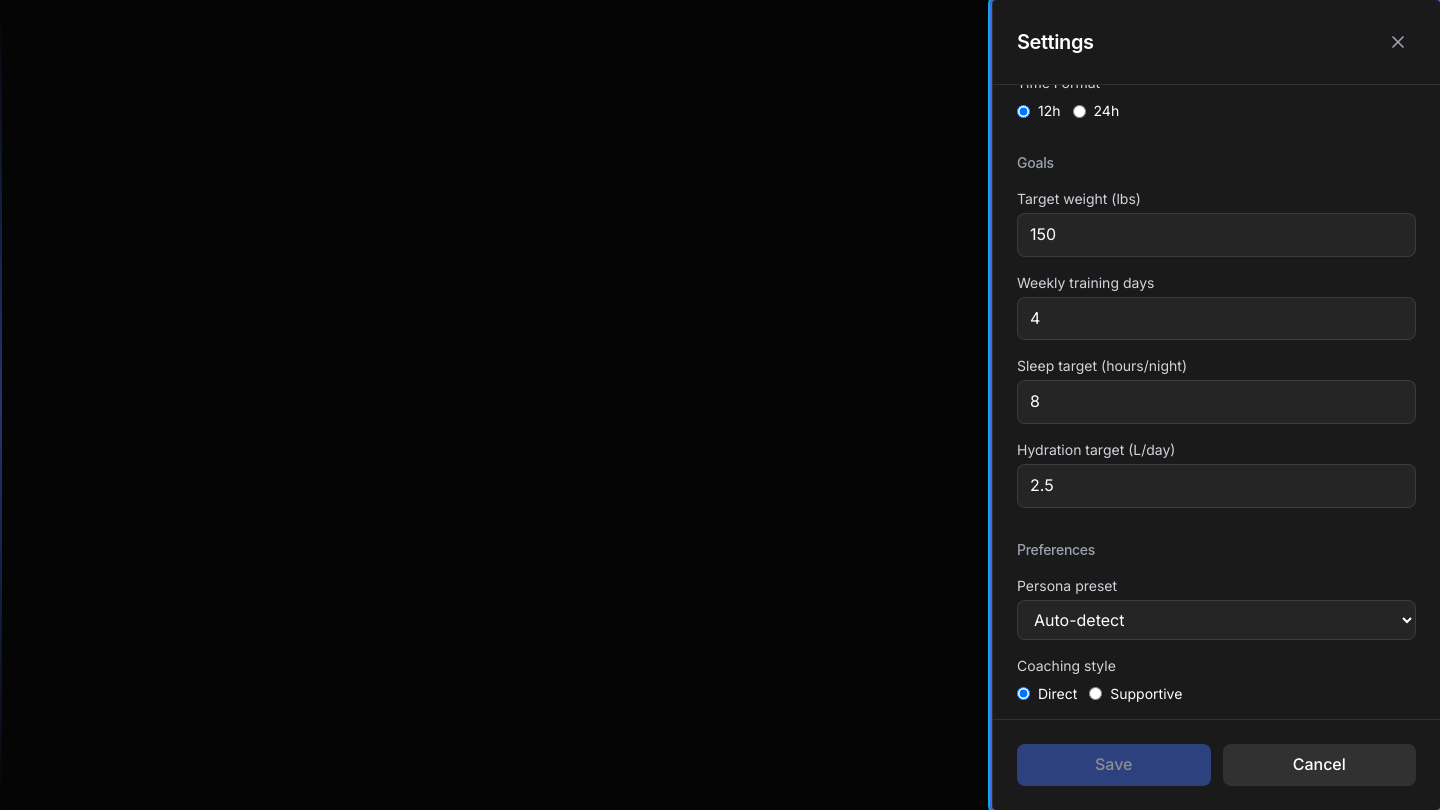
Test: SettingsSlideOver › Validation › Should validate numeric ranges
(page scrolled)
Replace the text in the number field labelled "Sleep target (hours/night)" with "25": (1216, 402) [1017,380,1416,424]
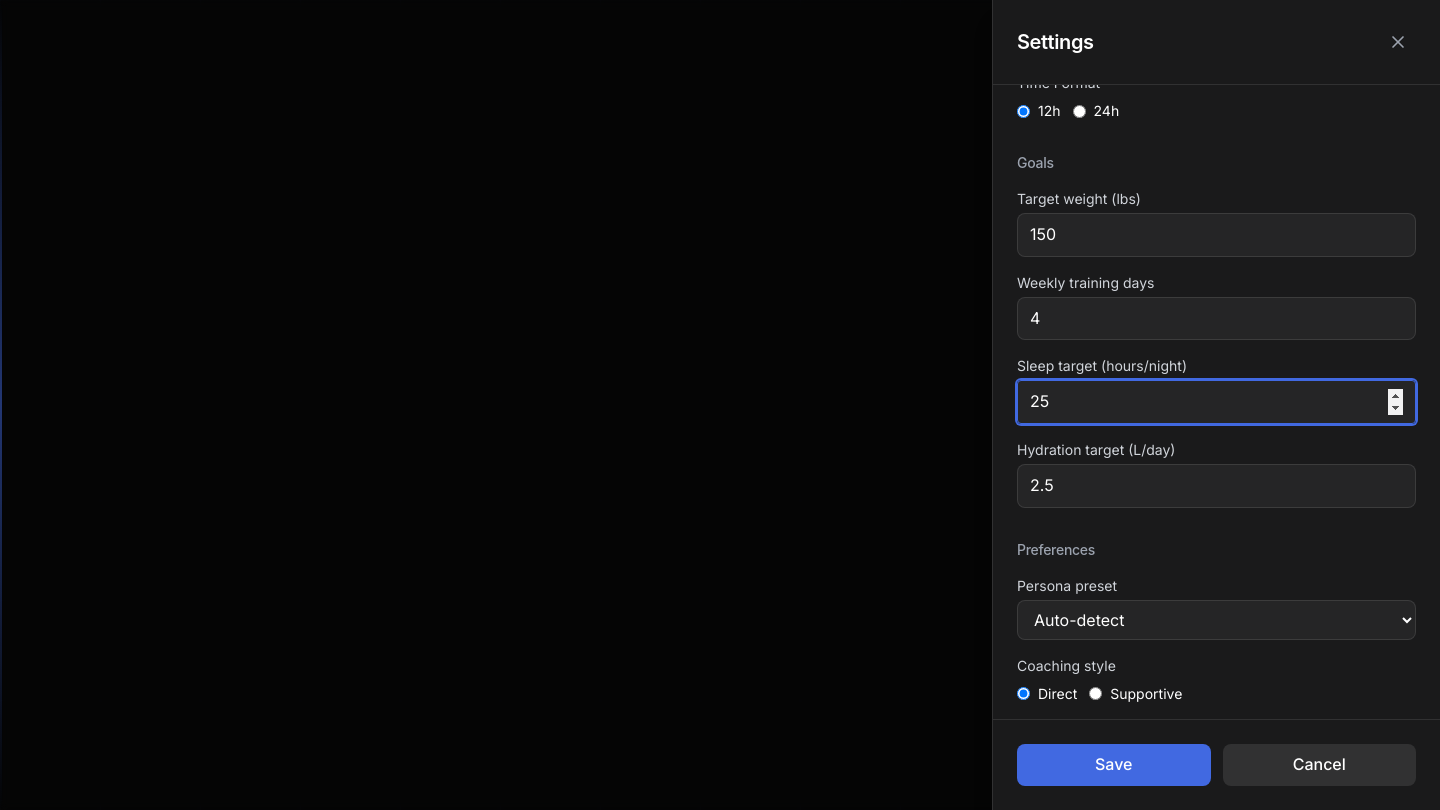
Click the button "Save": (1114, 765) [1017,744,1210,786]
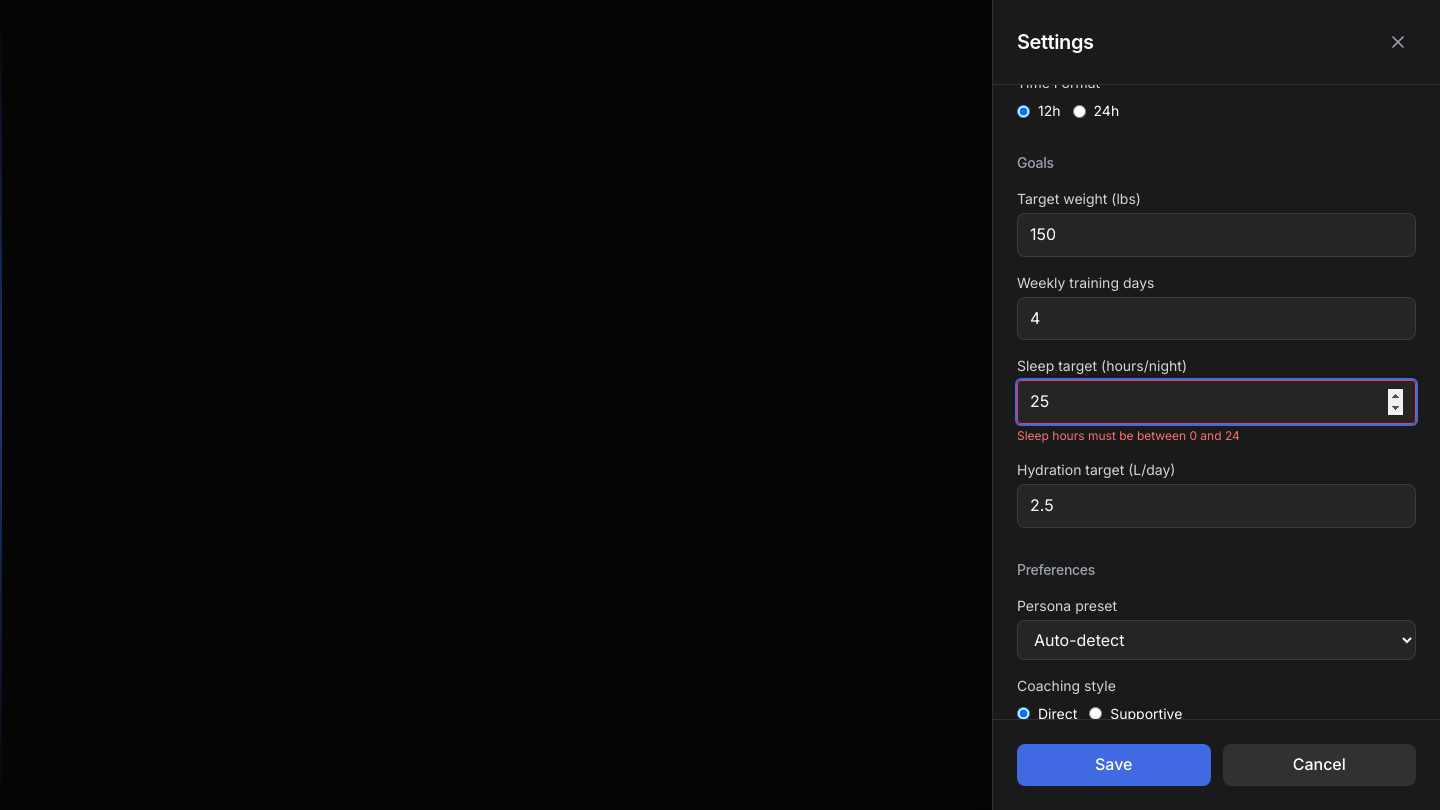
Expected: the text "Sleep hours must be between 0 and 24" is shown, [1017,428,1240,443]
